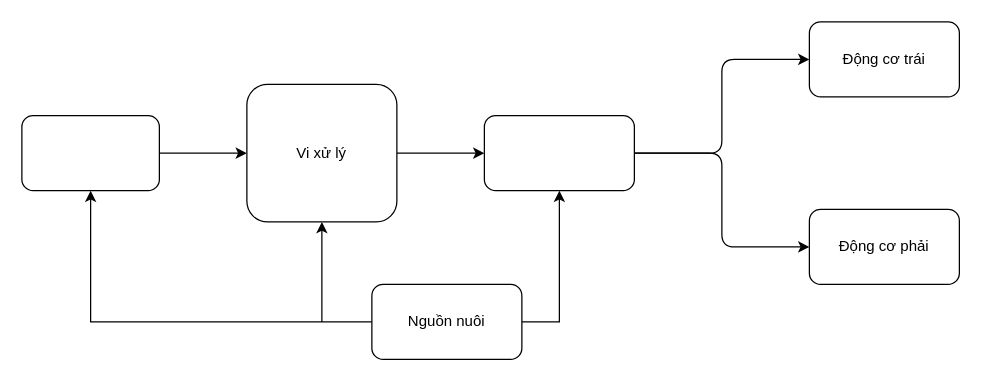
Some shapes in this 981 by 381 pixel diagram are drawn without their labels. The centre of each missing label's shape, as x and y in pixels:
Cụm cảm biến dò line: [90,152]
Module đIều khiển động cơ: [558,152]
